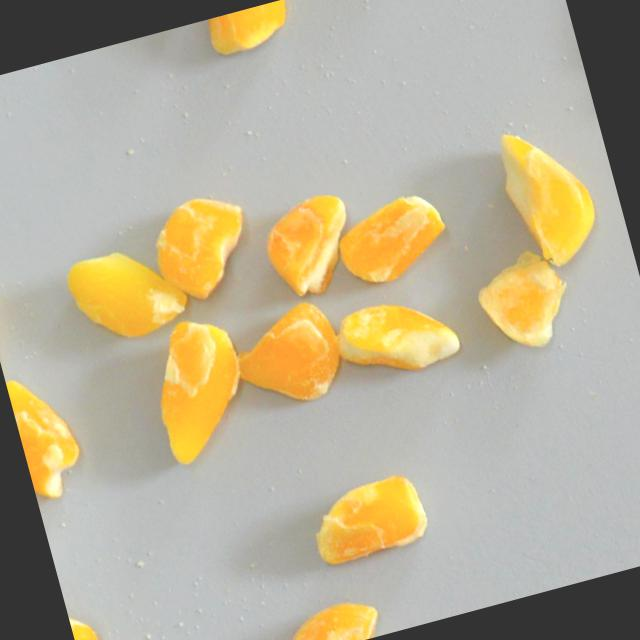pelicula: (133, 309, 258, 469), (491, 115, 606, 274), (58, 233, 192, 351), (225, 294, 348, 417), (142, 187, 259, 309), (330, 286, 464, 388), (328, 187, 454, 292), (303, 469, 433, 569), (468, 249, 579, 359), (256, 188, 363, 302), (5, 366, 88, 503), (258, 593, 383, 640), (204, 0, 295, 59), (66, 602, 98, 640)
